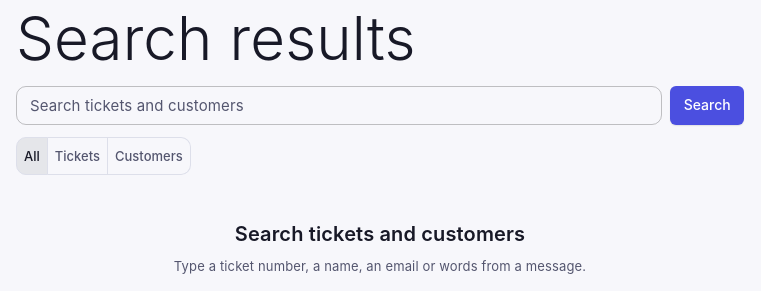
Test case: SearchResultsPage › searches again from the form
In the search field labelled "Search tickets and customers": (339, 105) [16, 86, 662, 125], type "  refund "
Then press Enter
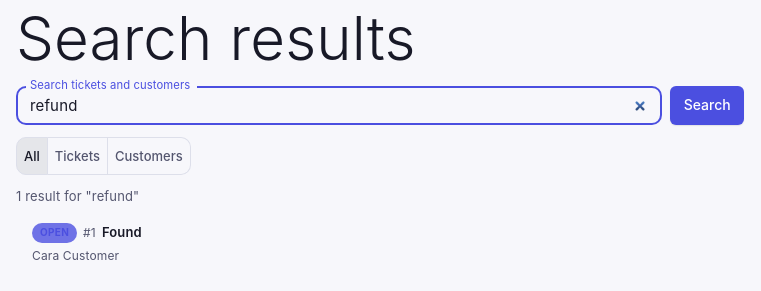
Expected: the text "Found" is shown, [102, 223, 142, 243]
